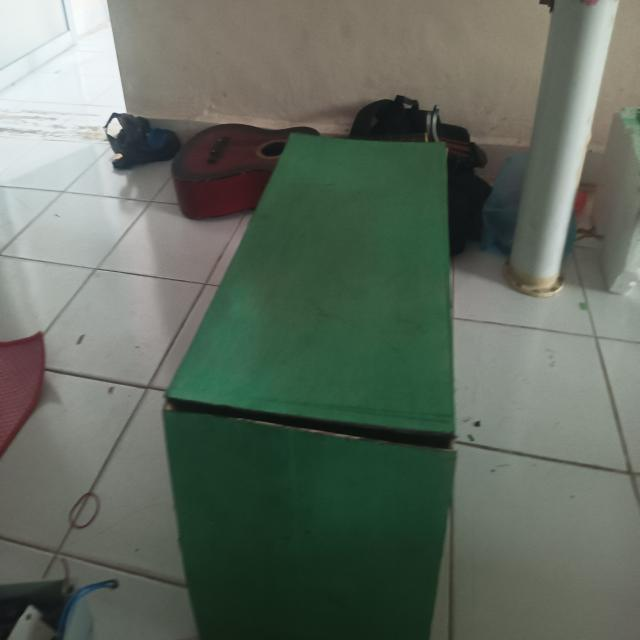green_box: (158, 105, 475, 640)
